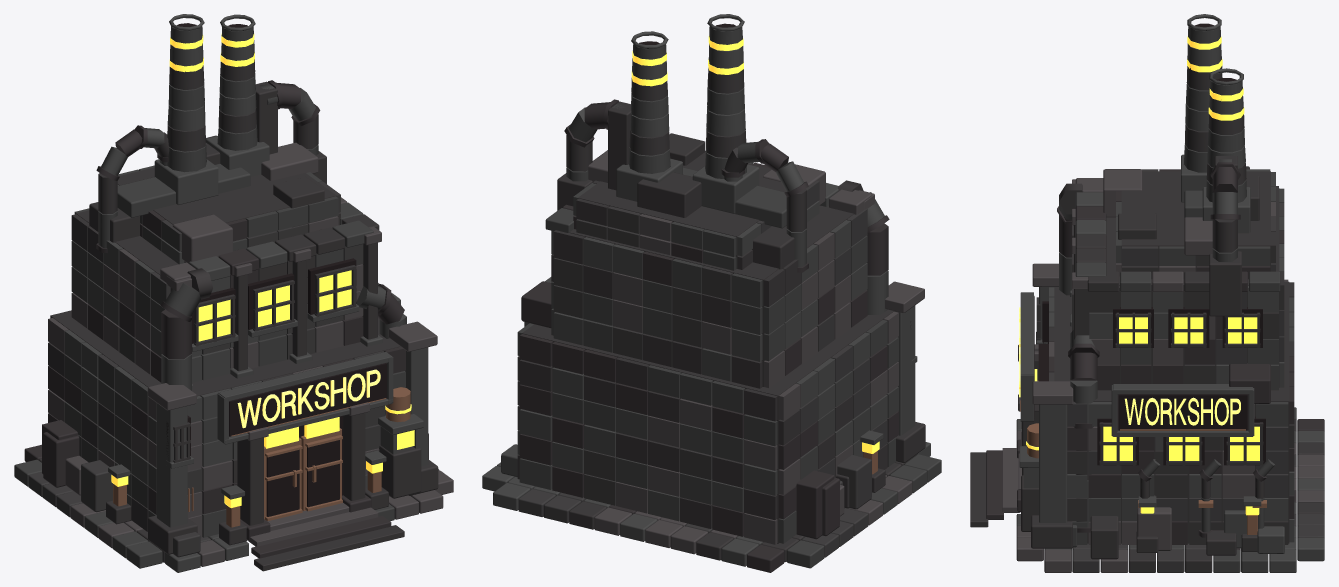
File: workshop.glb
The picture shows the model from 3 angles, left to right: view 1: azimuth 30°, elevation 25°; view 2: azimuth 150°, elevation 25°; view 3: azimuth 270°, elevation 25°; orthographic projection. The views are drawn at different scales.
Parts seen in each view (by area): view 1: PBR surface 1, Amber emissive glass, WORKSHOP 3D neon; view 2: PBR surface 1, Amber emissive glass; view 3: PBR surface 1, Amber emissive glass, WORKSHOP 3D neon.
Part boxes in pixels (x1=…): PBR surface 1: x1=14, y1=14, x2=453, y2=572; Amber emissive glass: x1=111, y1=33, x2=414, y2=508; WORKSHOP 3D neon: x1=237, y1=369, x2=380, y2=428; PBR surface 1: x1=482, y1=14, x2=941, y2=572; Amber emissive glass: x1=631, y1=36, x2=879, y2=453; PBR surface 1: x1=970, y1=14, x2=1324, y2=572; Amber emissive glass: x1=1026, y1=36, x2=1259, y2=515; WORKSHOP 3D neon: x1=1019, y1=307, x2=1240, y2=425.
Size of the model in its own units: 7.45 by 10.4 by 7.25.
Materials: 3 (3 with a texture image).
